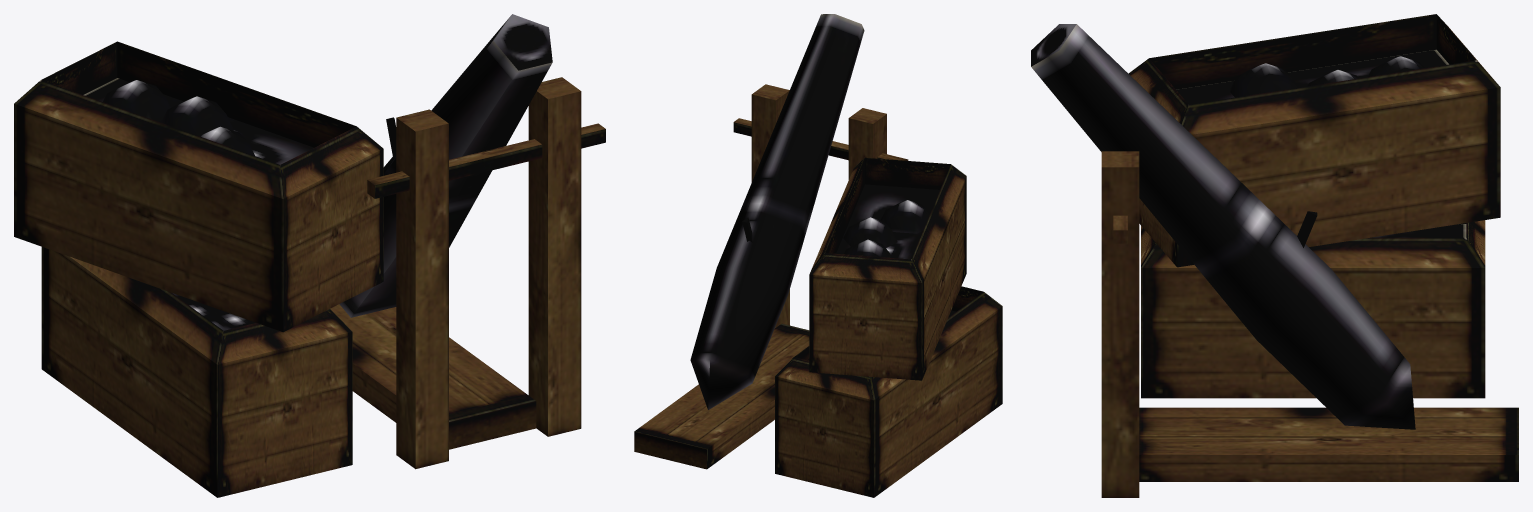
The model's file is Cannon01.glb.
3 renders of one model, left to right at view 1: azimuth 30°, elevation 25°; view 2: azimuth 150°, elevation 25°; view 3: azimuth 270°, elevation 25°, orthographic. The views are drawn at different scales.
Parts seen in each view (by area): view 1: Cannon01; view 2: Cannon01; view 3: Cannon01.
Part boxes in pixels (x1,y1,x2,y2): Cannon01: [14, 14, 605, 497]; Cannon01: [634, 14, 1002, 497]; Cannon01: [1031, 14, 1518, 497].
Bounding box in the file's own units: 1.32 × 1.33 × 1.36.
Materials: 1 (1 with a texture image).
